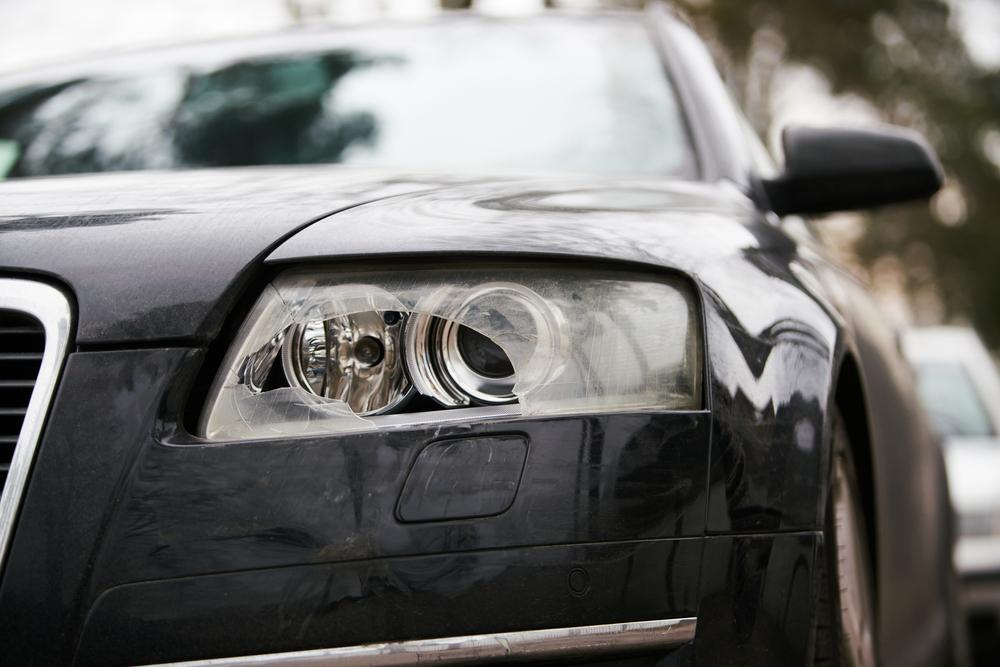lamp broken: (198, 262, 703, 437)
